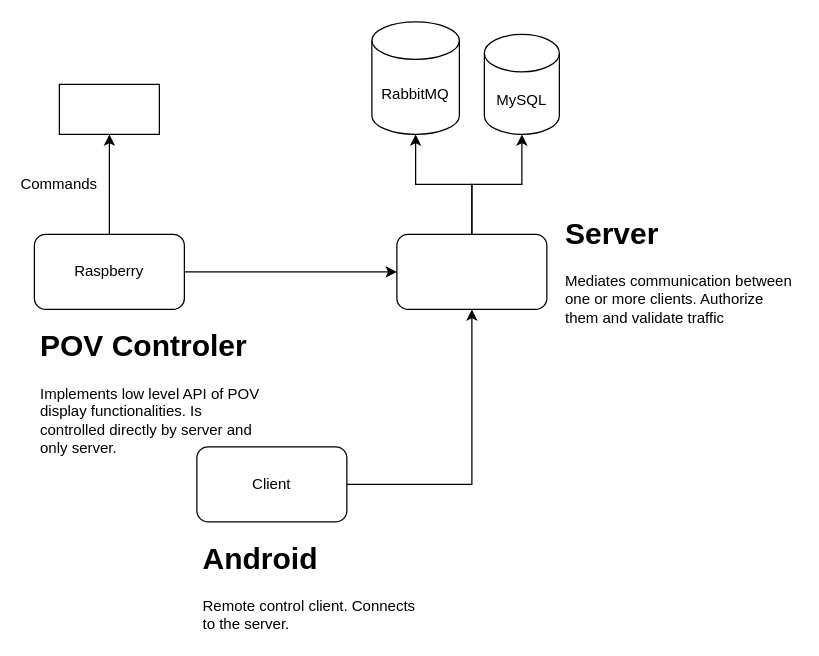
This 819x656 diagram has some shape labels left out. The shapes that lost their labels are listed below. From the top down, each one's centre as x and y in pixels, then its label:
[108,108]: POV Display
[471,271]: Spring Server
